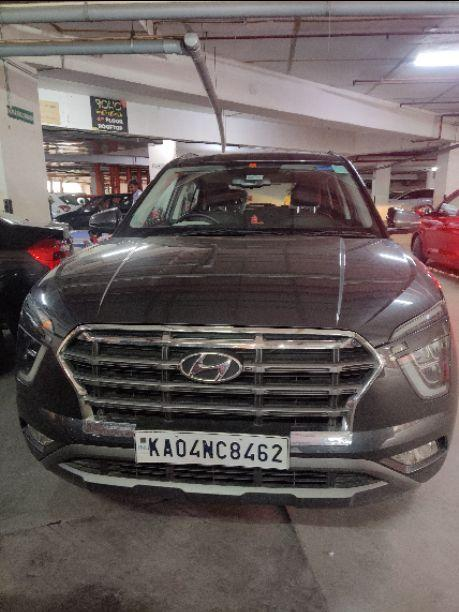license_plate: (133, 428, 290, 471)
